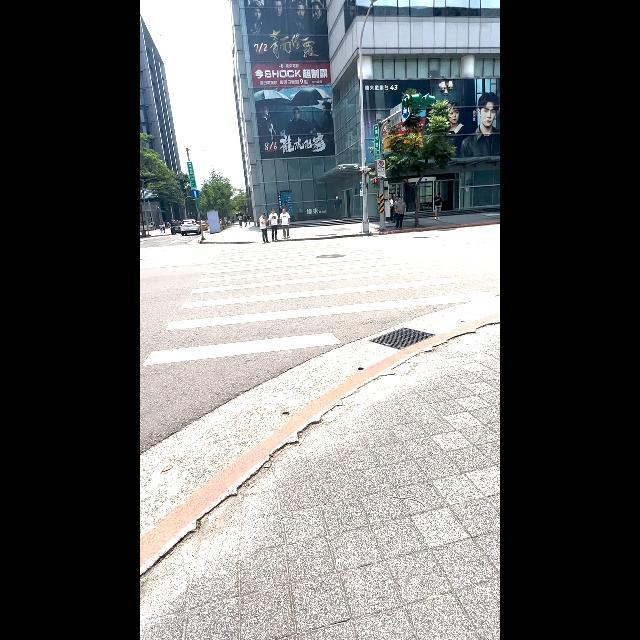sidewalk: (142, 234, 492, 360)
